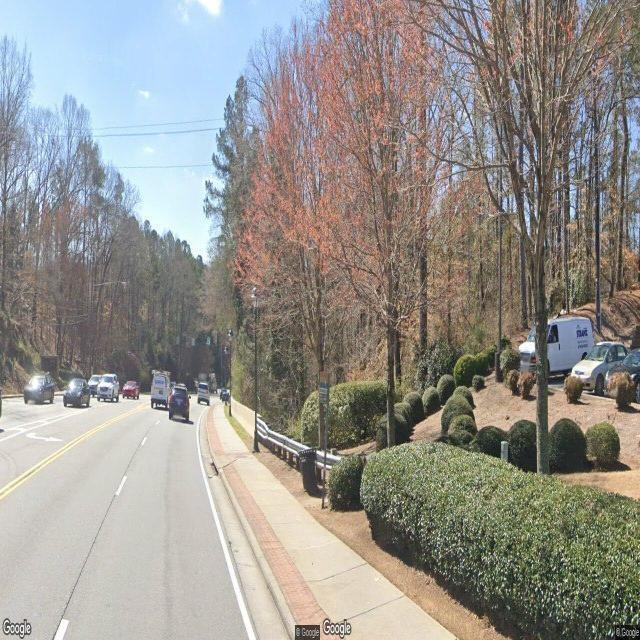trash_can: (298, 448, 318, 493)
